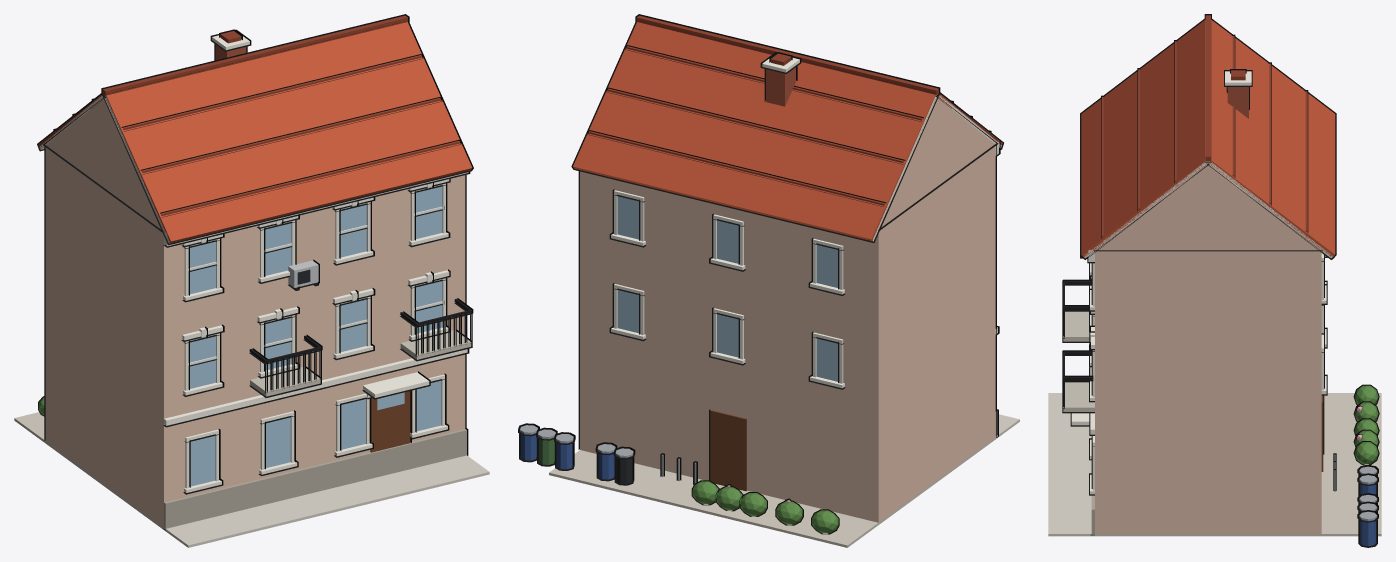
Rendered from Blok_duz_3k_5.fbx.
3 renders of one model, left to right at view 1: azimuth 30°, elevation 25°; view 2: azimuth 150°, elevation 25°; view 3: azimuth 270°, elevation 25°, orthographic. The views are drawn at different scales.
Visible parts, largest first — view 1: Blok_duz_3k_5; view 2: Blok_duz_3k_5; view 3: Blok_duz_3k_5.
Boxes of the visible parts, x1,y1,x2,y2 form: Blok_duz_3k_5: (14, 14, 489, 547); Blok_duz_3k_5: (518, 14, 1019, 547); Blok_duz_3k_5: (1048, 14, 1381, 547).
Bounding box in the file's own units: 11.3 × 12.89 × 10.
